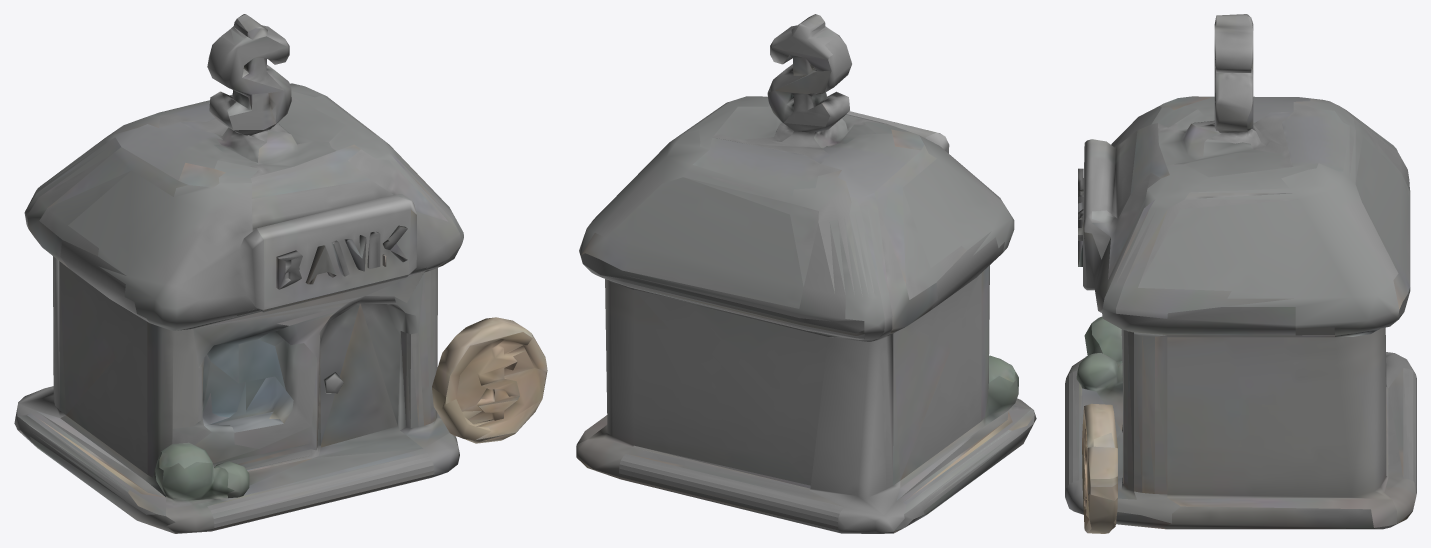
The model's file is bank_1_lod2.glb.
3 views of the same model, side by side, from view 1: azimuth 30°, elevation 25°; view 2: azimuth 150°, elevation 25°; view 3: azimuth 270°, elevation 25° (orthographic). The views are drawn at different scales.
Visible parts, largest first — view 1: tripo_node_c34e1c5f; view 2: tripo_node_c34e1c5f; view 3: tripo_node_c34e1c5f.
Boxes of the visible parts, left/top/right/bottom form: tripo_node_c34e1c5f: left=14, top=14, right=547, bottom=533; tripo_node_c34e1c5f: left=576, top=14, right=1036, bottom=533; tripo_node_c34e1c5f: left=1065, top=14, right=1416, bottom=533.
Size of the model in its own units: 0.9661 by 1 by 0.7245.
Materials: 1 (1 with a texture image).
